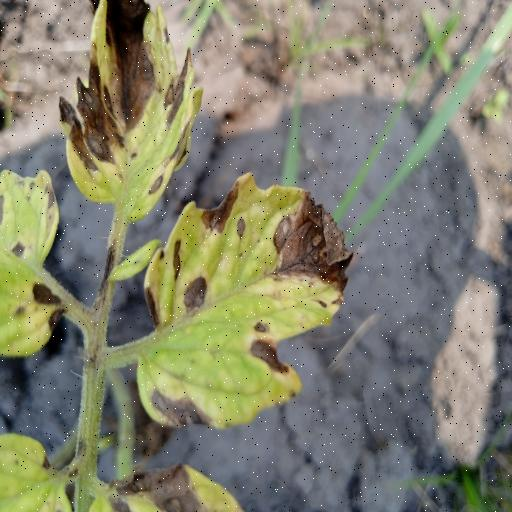Tomato_Brown_Spots: (135, 166, 361, 437), (60, 0, 210, 224)
